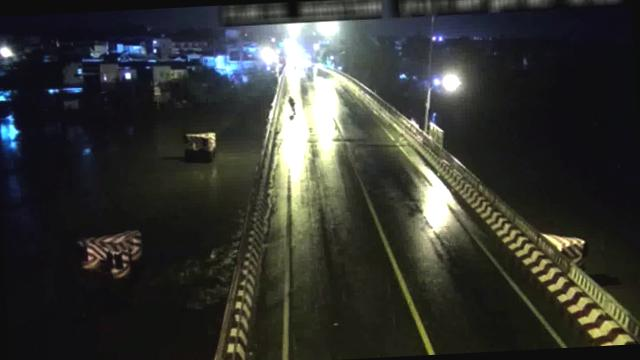Bike: (284, 94, 300, 116)
